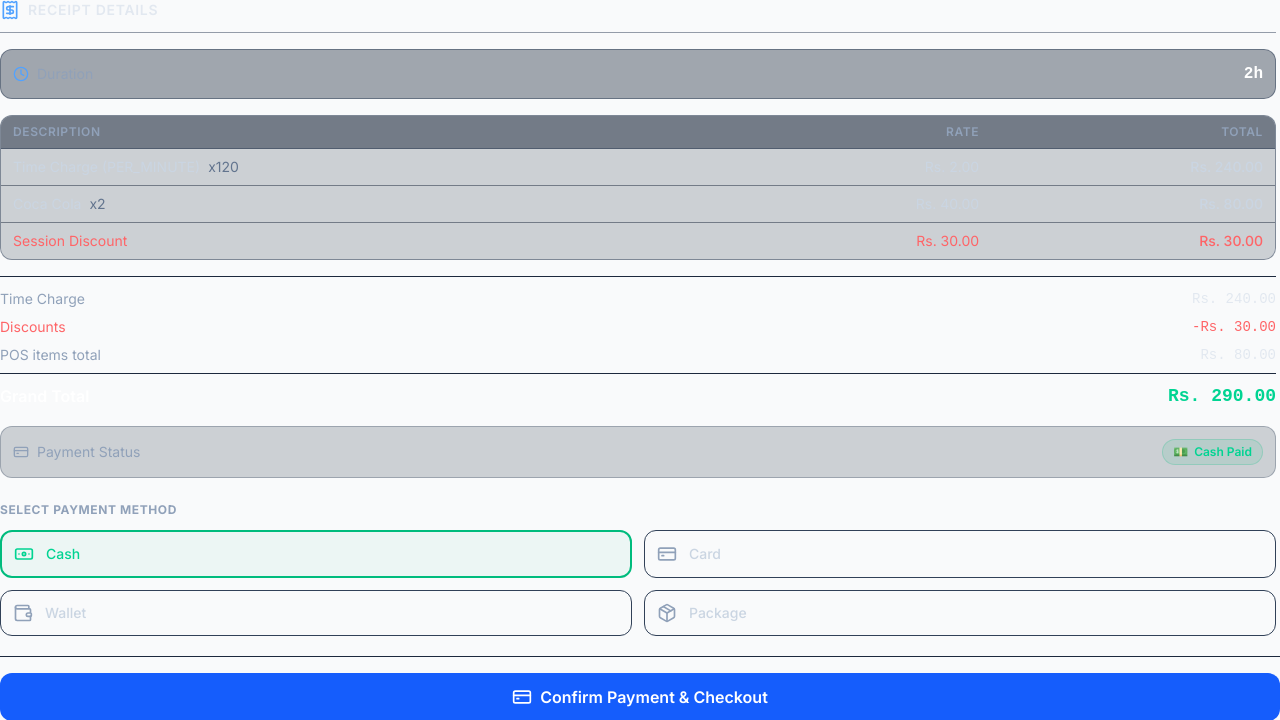
Test: CheckoutPanel › renders held state when checkout returns FAILED and the flag is on
Note: Drive the checkout flow so the FAILED result moves the panel into the held state.
Click the button "Confirm Payment & Checkout".
click(640, 697)  # box [0, 673, 1279, 719]
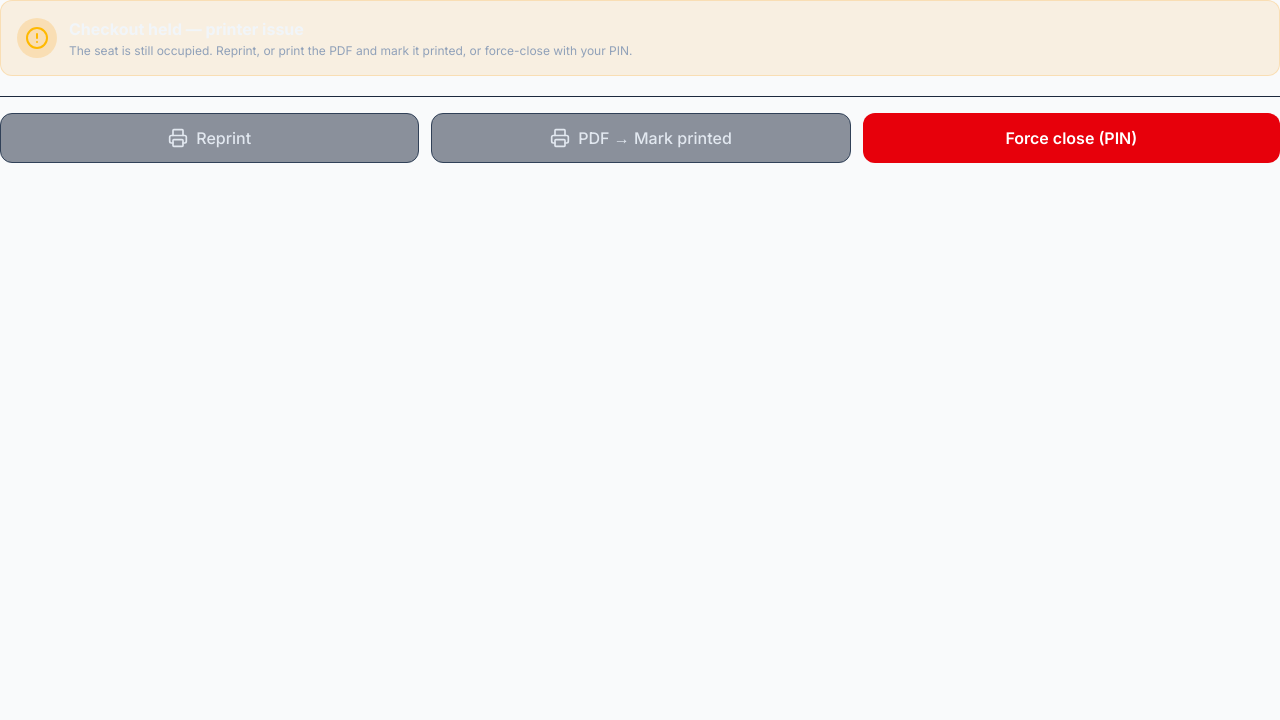
Check: the button "Force close (PIN)" is shown, box [863, 113, 1279, 163]
Check: the button "Reprint" is shown, box [0, 113, 419, 163]
Check: the button "PDF → Mark printed" is shown, box [431, 113, 851, 163]
